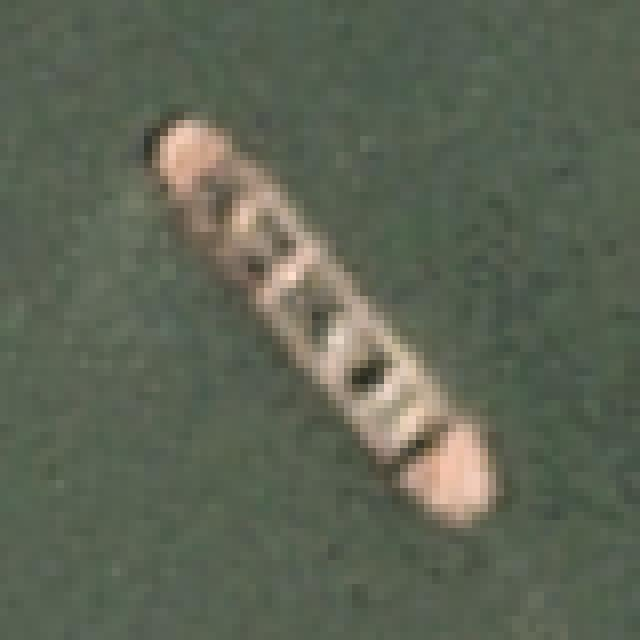ship: (120, 84, 547, 567)
